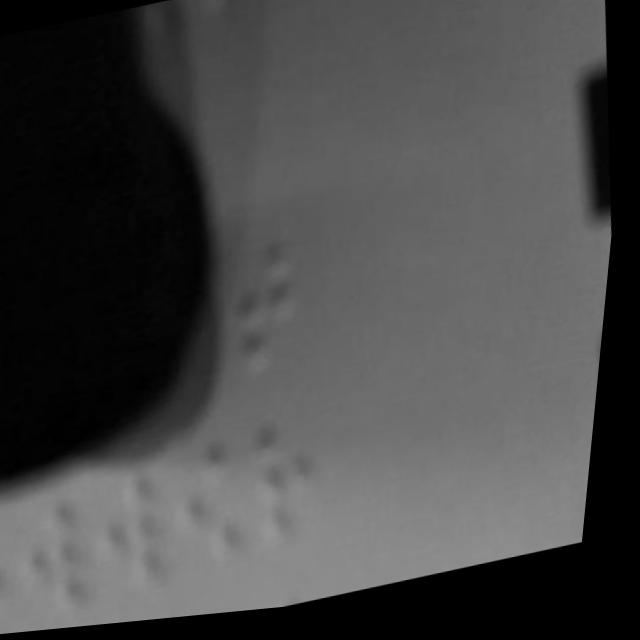braiile: (247, 412, 346, 573), (7, 484, 110, 636), (162, 439, 265, 590), (223, 236, 318, 396), (91, 462, 187, 616)
